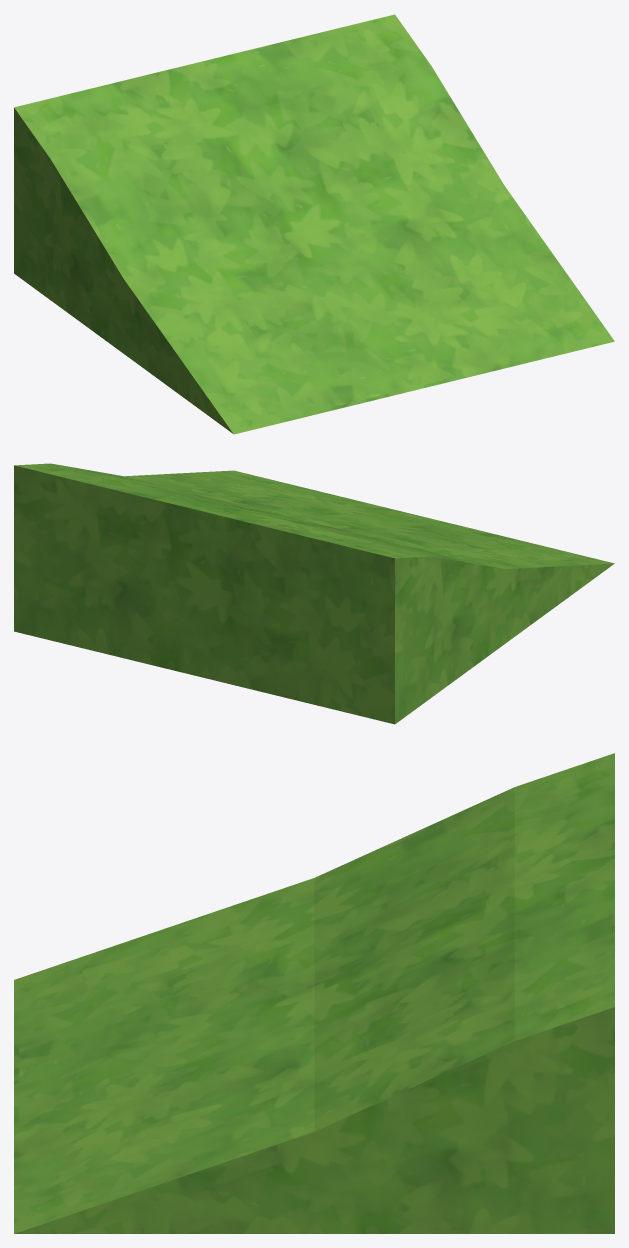
The model's file is Ramp_Center_1x1x1.fbx.
3 renders of one model, top to bottom at view 1: azimuth 30°, elevation 25°; view 2: azimuth 150°, elevation 25°; view 3: azimuth 270°, elevation 25°, orthographic. The views are drawn at different scales.
Visible parts, largest first — view 1: Ramp_Center_1x1x1; view 2: Ramp_Center_1x1x1; view 3: Ramp_Center_1x1x1.
Boxes of the visible parts, x1=… form: Ramp_Center_1x1x1: x1=14, y1=14, x2=614, y2=434; Ramp_Center_1x1x1: x1=14, y1=463, x2=614, y2=724; Ramp_Center_1x1x1: x1=14, y1=753, x2=614, y2=1233.
Bounding box in the file's own units: 3 × 3 × 1.25.
